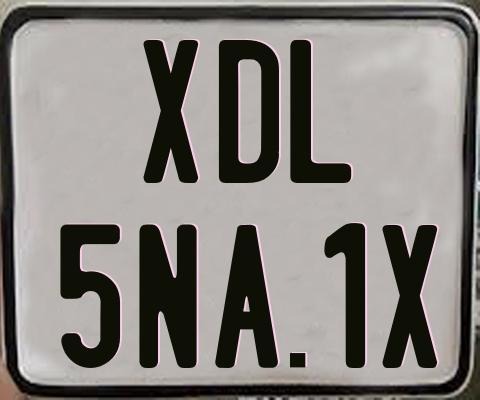1: (321, 221, 362, 371)
5: (58, 221, 124, 369)
A: (214, 223, 282, 372)
D: (219, 38, 284, 187)
L: (290, 39, 355, 185)
N: (138, 224, 197, 370)
X: (143, 37, 202, 181), (379, 224, 435, 370)
